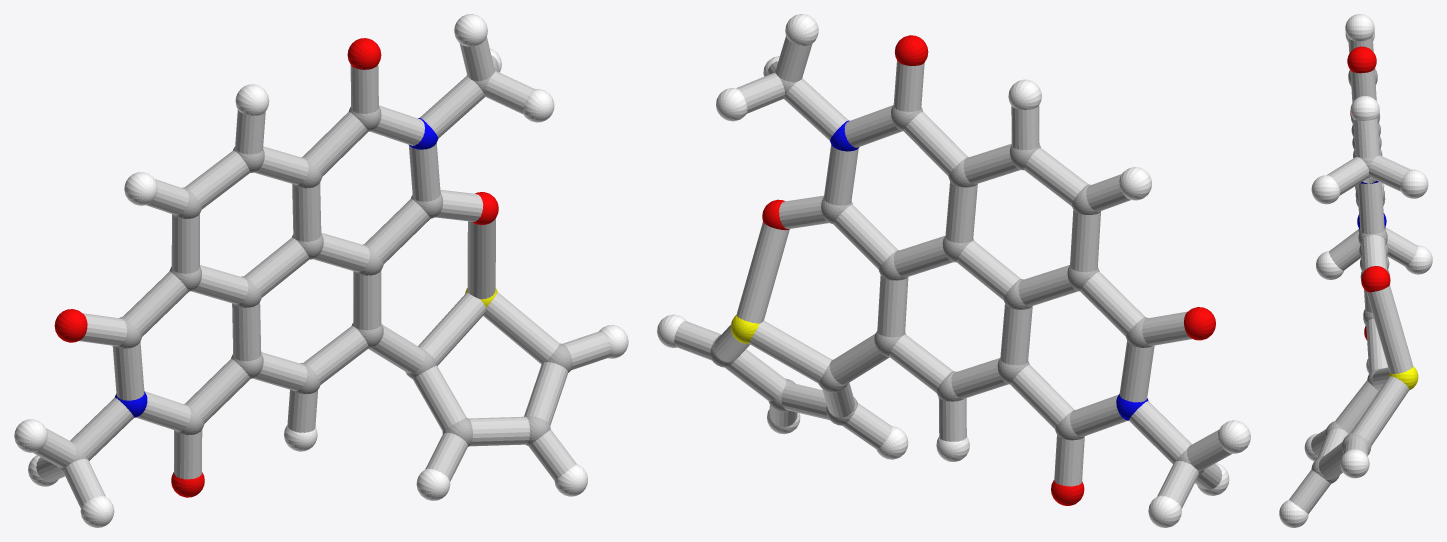
File: Dimethyl_Naphthalene_Dicarboximide_Phi_30_Theta_150_Thiophene.glb
3 views of the same model, side by side, from view 1: azimuth 30°, elevation 25°; view 2: azimuth 150°, elevation 25°; view 3: azimuth 270°, elevation 25° (orthographic). The views are drawn at different scales.
Parts seen in each view (by area): view 1: grp14119, grp7241, grp1, grp12309, grp11585; view 2: grp14119, grp7241, grp1, grp12309, grp11585; view 3: grp14119, grp7241, grp1, grp12309, grp13757.
Part boxes in pixels (x1,y1,x2,y2): grp14119: [33, 36, 610, 508]; grp7241: [14, 14, 628, 527]; grp1: [58, 68, 572, 471]; grp12309: [54, 38, 498, 497]; grp11585: [114, 118, 438, 417]; grp14119: [674, 36, 1232, 508]; grp7241: [657, 14, 1250, 527]; grp1: [710, 70, 1204, 475]; grp12309: [762, 35, 1215, 505]; grp11585: [830, 120, 1148, 420]; grp14119: [1289, 36, 1417, 513]; grp7241: [1279, 14, 1432, 527]; grp1: [1311, 68, 1389, 483]; grp12309: [1347, 46, 1390, 339]; grp13757: [1389, 366, 1418, 389].
Size of the model in its own units: 12.35 by 9.18 by 3.13.
